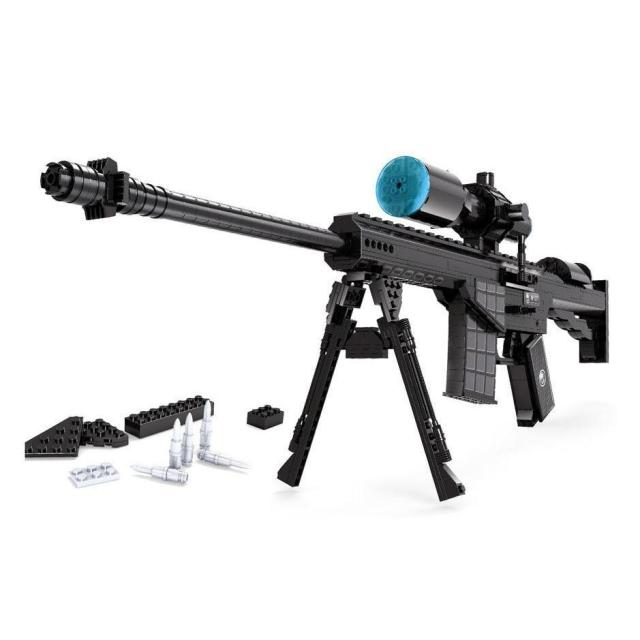Rifle: (39, 156, 609, 429)
